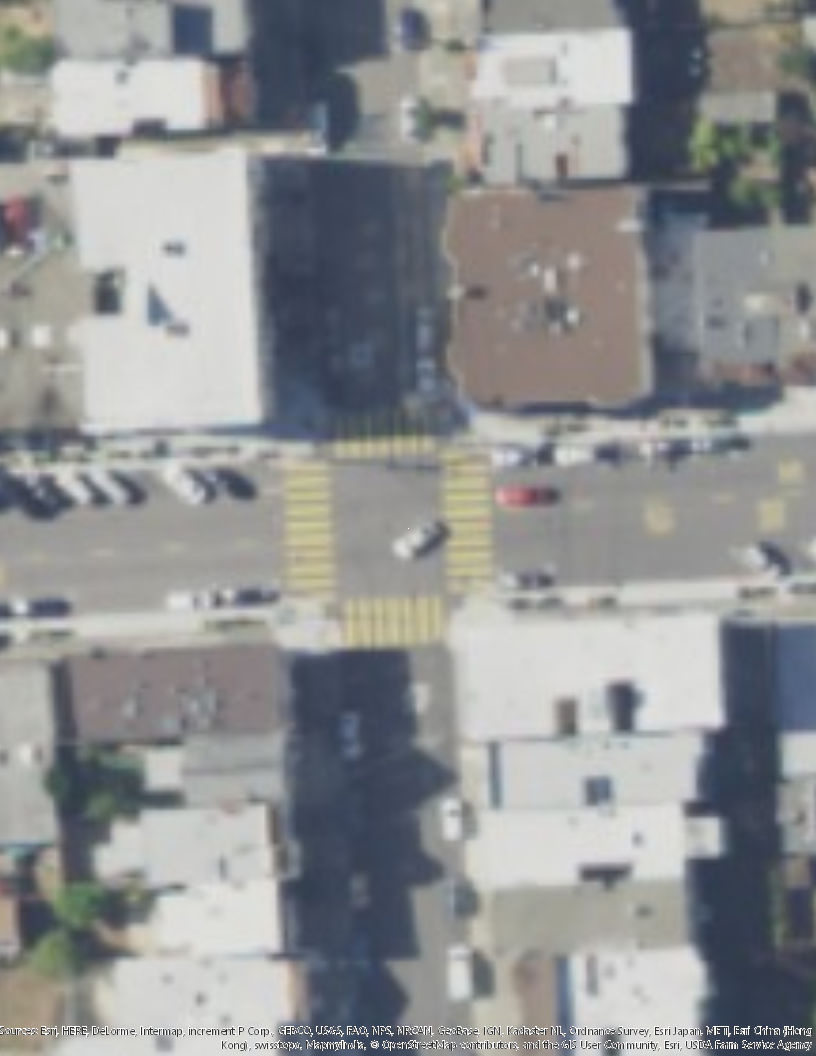zebracross: (443, 447, 497, 589), (282, 463, 338, 595), (339, 595, 447, 649), (334, 409, 437, 461)
